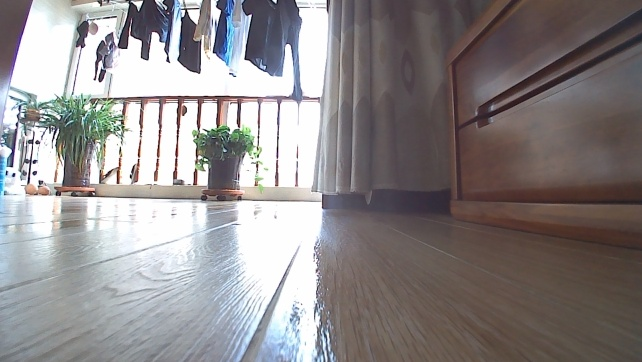cabinet: (439, 0, 641, 252)
